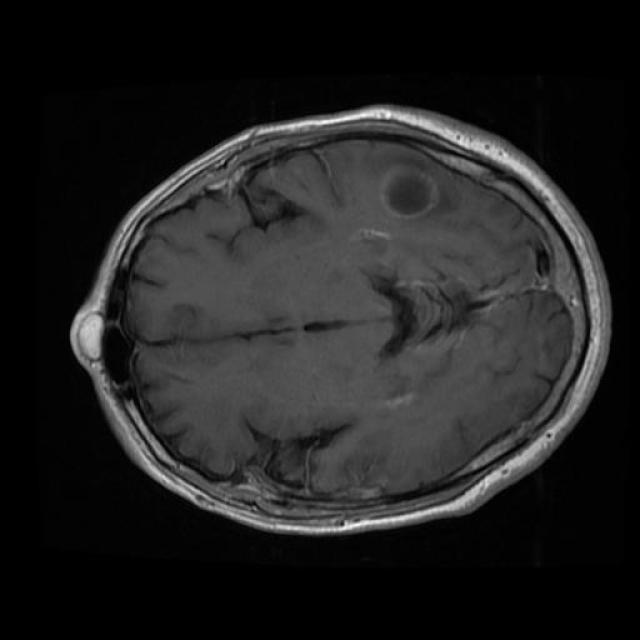Glioma: (383, 165, 436, 215)
